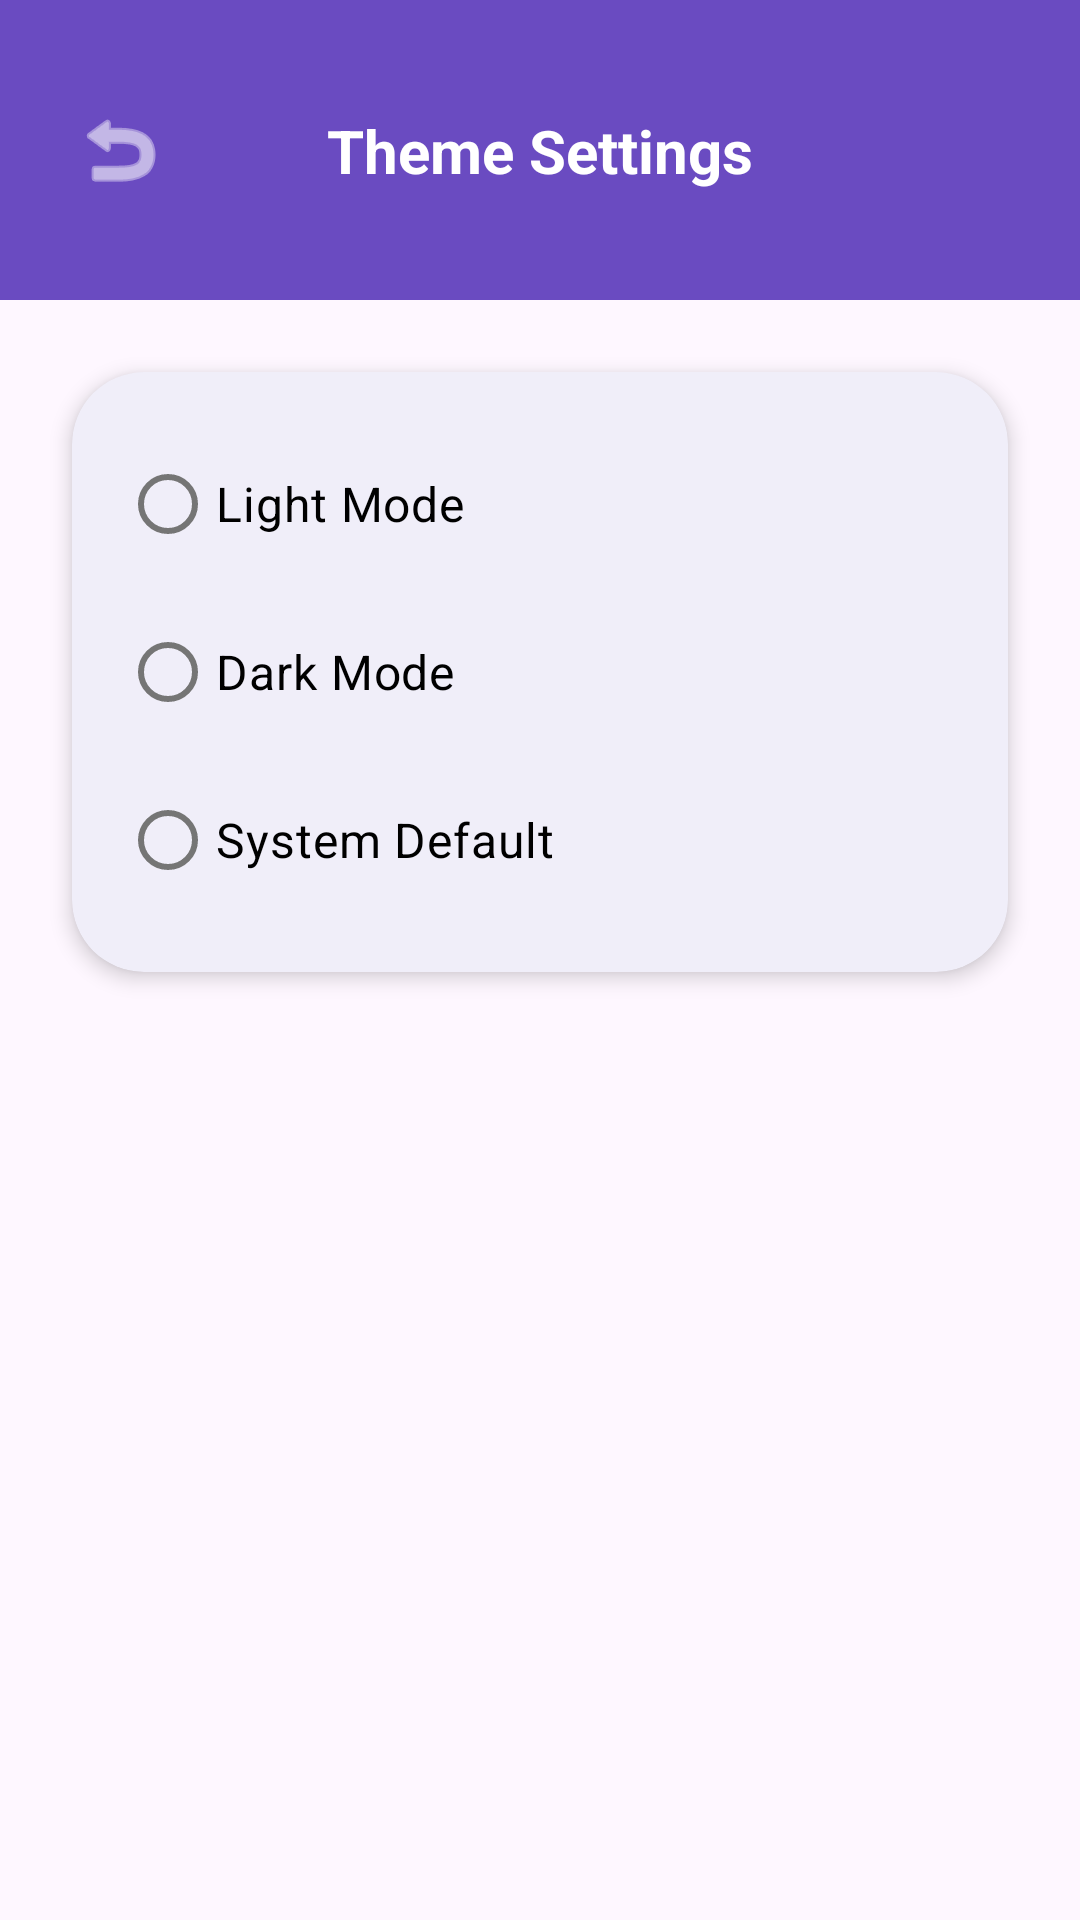

Named icons in this screenshot (1080w x 1920h) and their bounding boxes, box=[x1, y1, x2, y2]:
revert: box=[87, 119, 156, 182]
